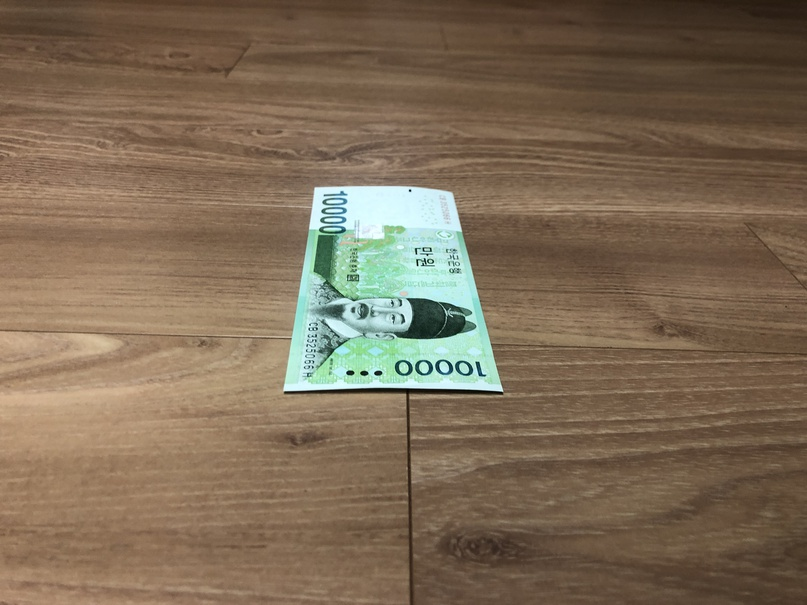10000won: (284, 185, 505, 392)
